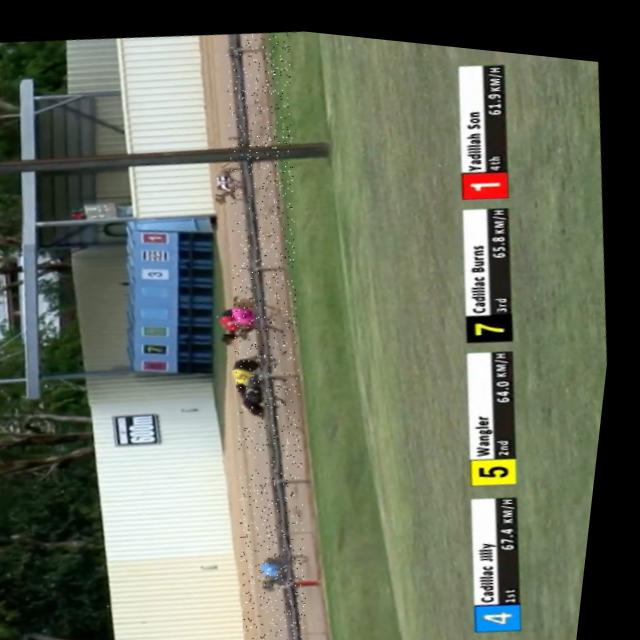dog_eight: (236, 294, 263, 319)
dog_five: (238, 360, 265, 379)
dog_four: (271, 550, 298, 570)
dog_one: (223, 307, 250, 326)
dog_seven: (250, 374, 276, 393)
dog_two: (217, 167, 247, 189)
rail: (227, 28, 320, 640)
